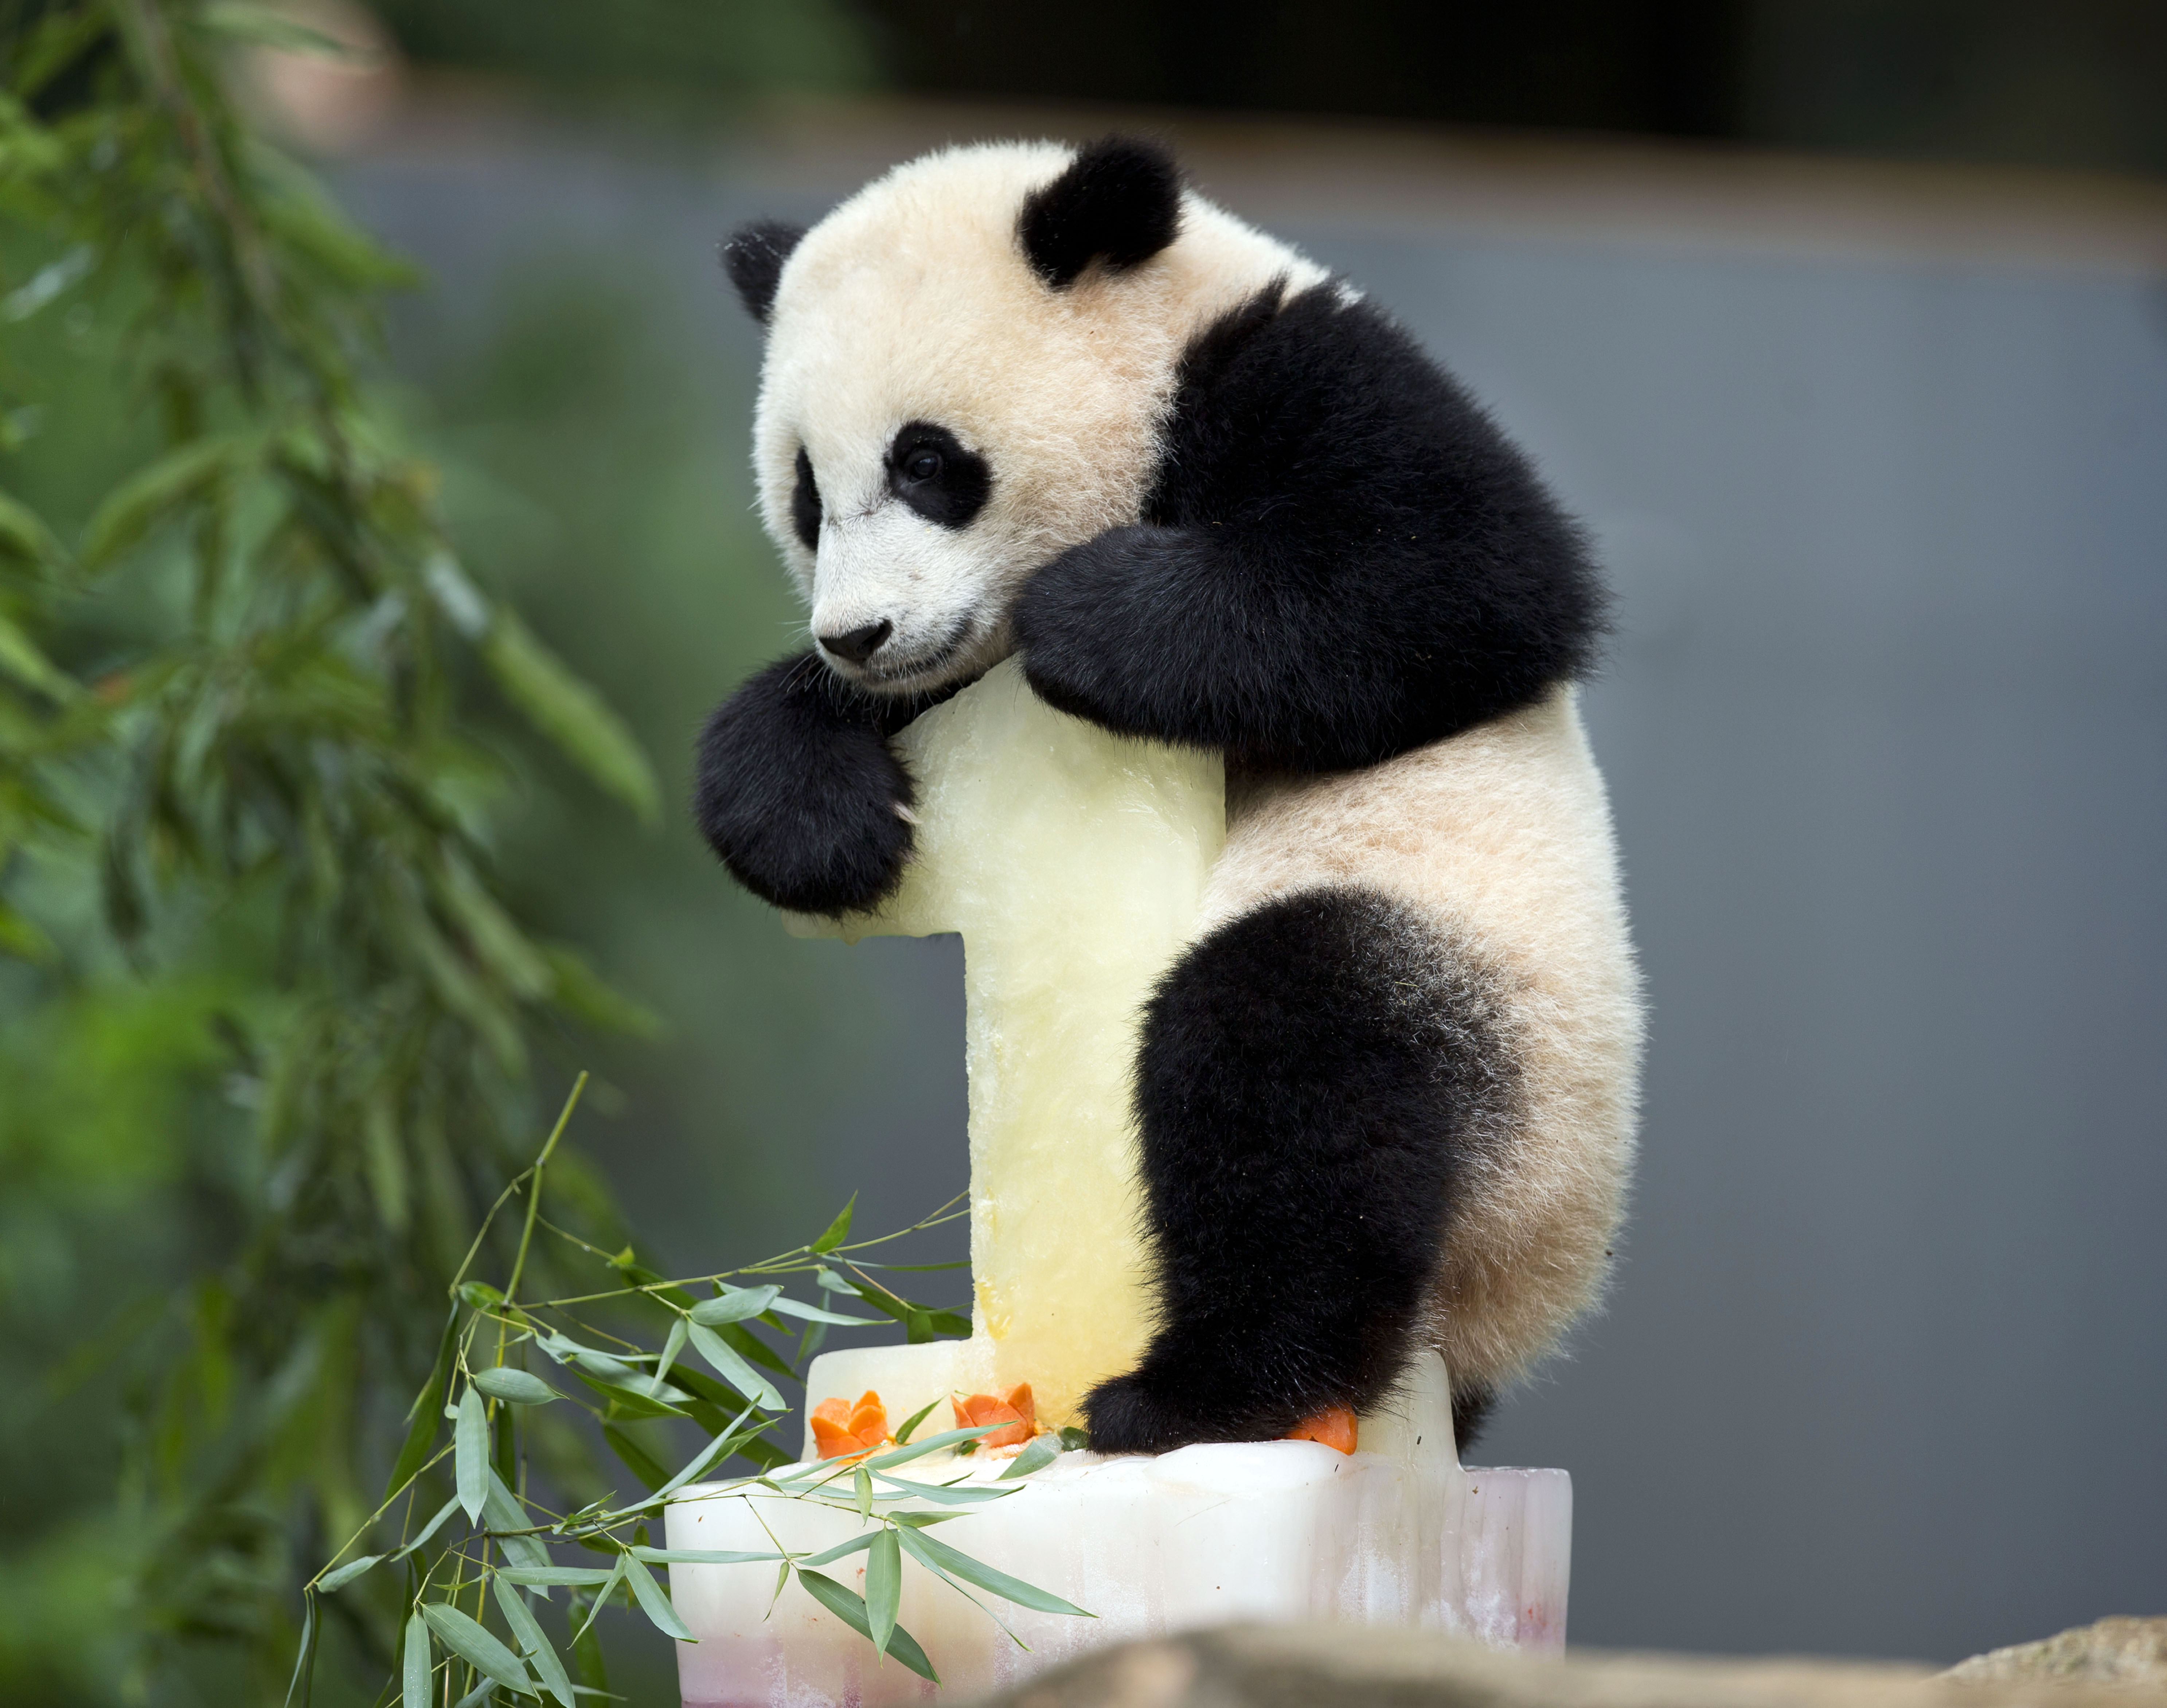panda: (515, 150, 1791, 1455)
